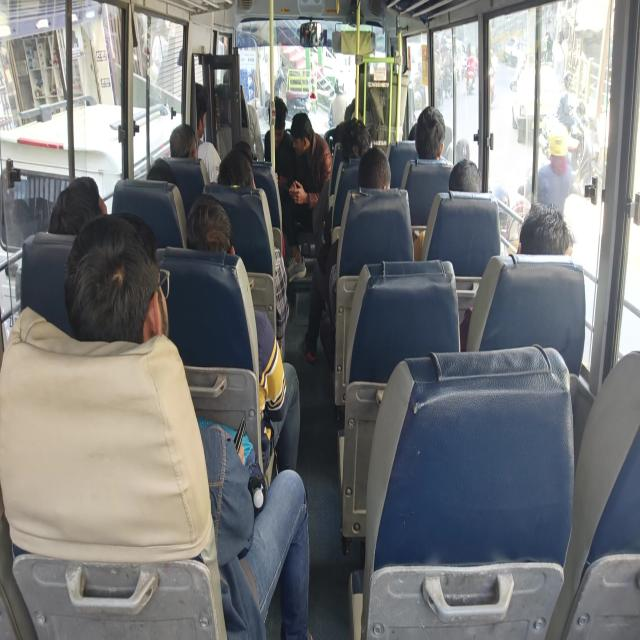person: (64, 211, 312, 638), (185, 193, 301, 473), (301, 146, 391, 366), (459, 200, 575, 350), (217, 145, 289, 361), (277, 111, 332, 280), (413, 158, 482, 260), (48, 176, 108, 236), (536, 123, 574, 214), (517, 201, 575, 256), (264, 95, 296, 188), (193, 82, 222, 184), (169, 123, 209, 184), (415, 104, 446, 160), (217, 148, 256, 188), (357, 147, 391, 190), (339, 118, 371, 160), (448, 158, 482, 192), (169, 123, 197, 158)
